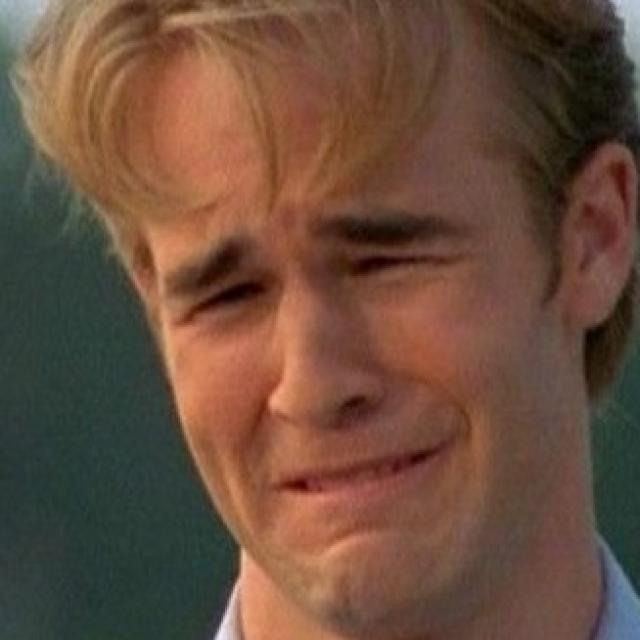Depress: (126, 11, 552, 638)
